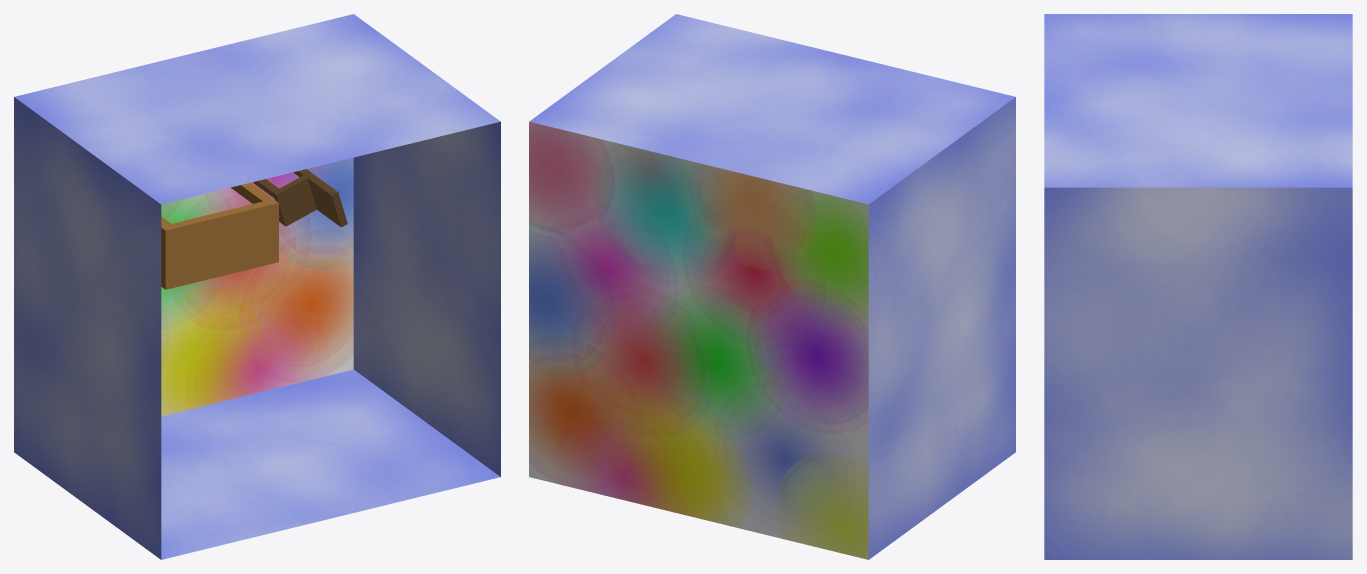
The model's file is room.glb.
3 views of the same model, side by side, from view 1: azimuth 30°, elevation 25°; view 2: azimuth 150°, elevation 25°; view 3: azimuth 270°, elevation 25° (orthographic). The views are drawn at different scales.
Visible parts, largest first — view 1: Room, Table, Chair; view 2: Room; view 3: Room.
Part boxes in pixels (x1,y1,x2,y2): Room: (14,14,500,559); Table: (161,182,278,289); Chair: (253,169,347,227); Room: (529,14,1015,559); Room: (1044,14,1352,559).
Bounding box in the file's own units: 53.9 × 53.9 × 40.42.
5 materials, 5 textured.
